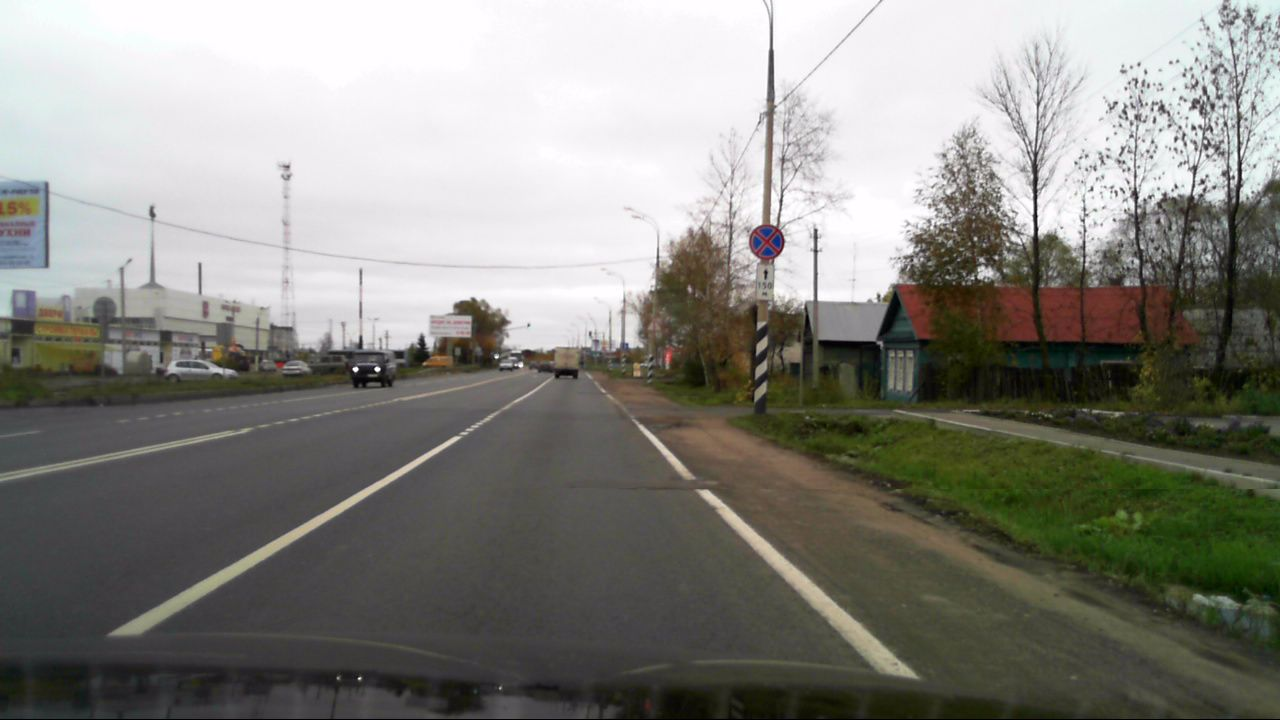No Parking: (748, 224, 784, 261)
